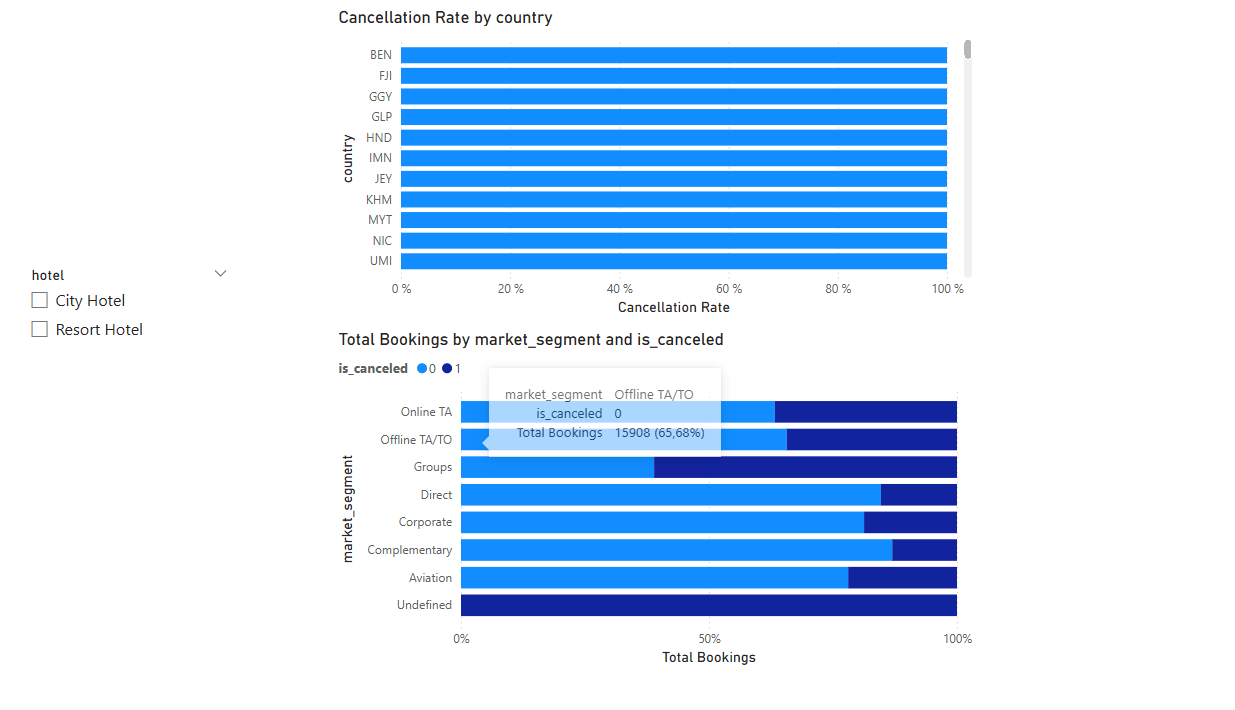

The dashboard page shown, as its layout file describes it:
{"tool":"powerbi","page":{"name":"Page 3","canvas":[1280,720],"ordinal":2},"visuals":[{"type":"clusteredBarChart","fields":{"Category":["hotel_booking_clean33.country"],"Y":["Measures 2.Cancellation Rate"]},"box":[339.5,10.1,642.8,312.4],"z":0},{"type":"hundredPercentStackedBarChart","fields":{"Y":["hotel_booking_clean33.Total Bookings"],"Category":["hotel_booking_clean33.market_segment"],"Series":["hotel_booking_clean33.is_canceled"]},"box":[339.5,331.6,642.8,341.7],"z":1},{"type":"slicer","fields":{"Values":["hotel_booking_clean33.hotel"]},"box":[23.7,265,221,312.4],"z":2}]}

Visuals, with their boxes in screenshot pixels (x1, y1, x2, y2), scaled from the page's 1280x720 canvas onto the 1235x710 screenshot:
clusteredBarChart - hotel_booking_clean33.country x Measures 2.Cancellation Rate: [328,10,948,318]
hundredPercentStackedBarChart - hotel_booking_clean33.Total Bookings x hotel_booking_clean33.market_segment: [328,327,948,664]
slicer - hotel_booking_clean33.hotel: [23,261,236,569]
